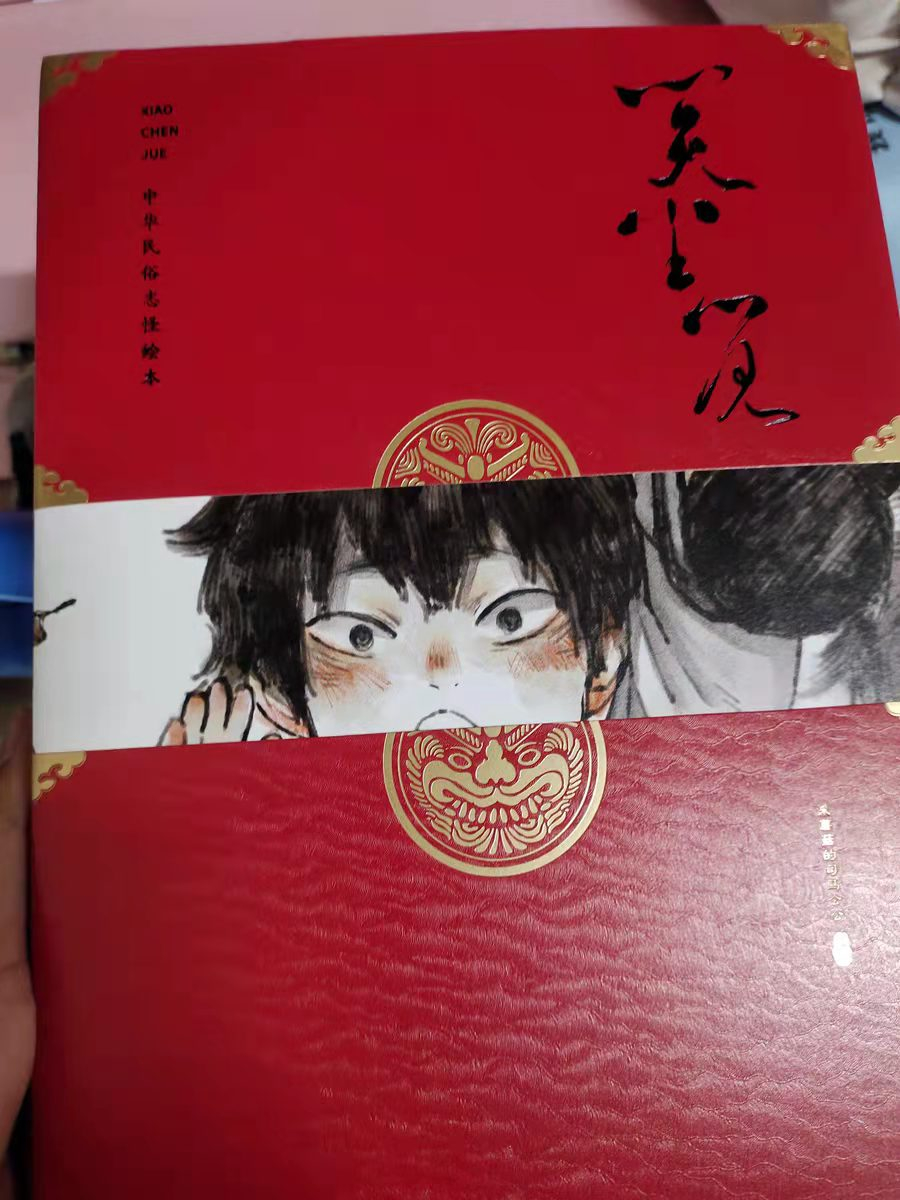book: (28, 27, 895, 1200)
